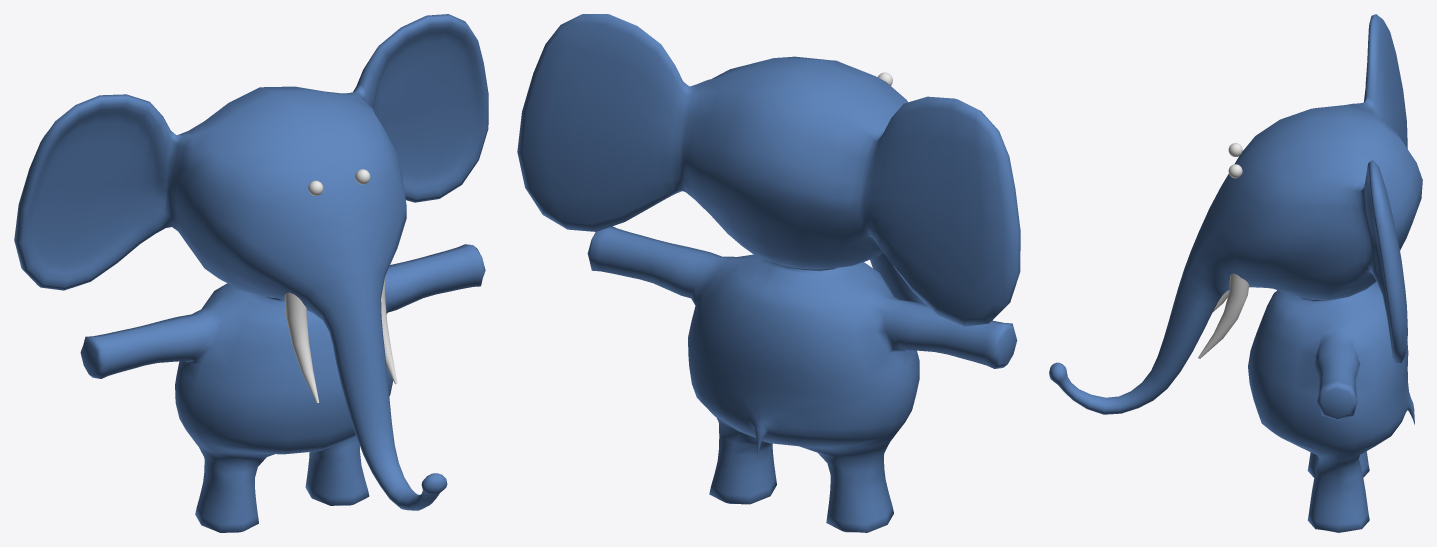
The model's file is Ellic.fbx.
3 renders of one model, left to right at view 1: azimuth 30°, elevation 25°; view 2: azimuth 150°, elevation 25°; view 3: azimuth 270°, elevation 25°, orthographic. The views are drawn at different scales.
Visible parts, largest first — view 1: polySurface1, Tooth_R, Tooth_L; view 2: polySurface1; view 3: polySurface1, Tooth_L.
Part boxes in pixels (box(x1,y1,x2,y2)): polySurface1: box(14, 14, 488, 532); Tooth_R: box(284, 292, 319, 403); Tooth_L: box(381, 276, 397, 384); polySurface1: box(517, 14, 1020, 532); polySurface1: box(1049, 14, 1422, 532); Tooth_L: box(1198, 273, 1249, 358).
Size of the model in its own units: 16.39 by 14.68 by 12.22.
